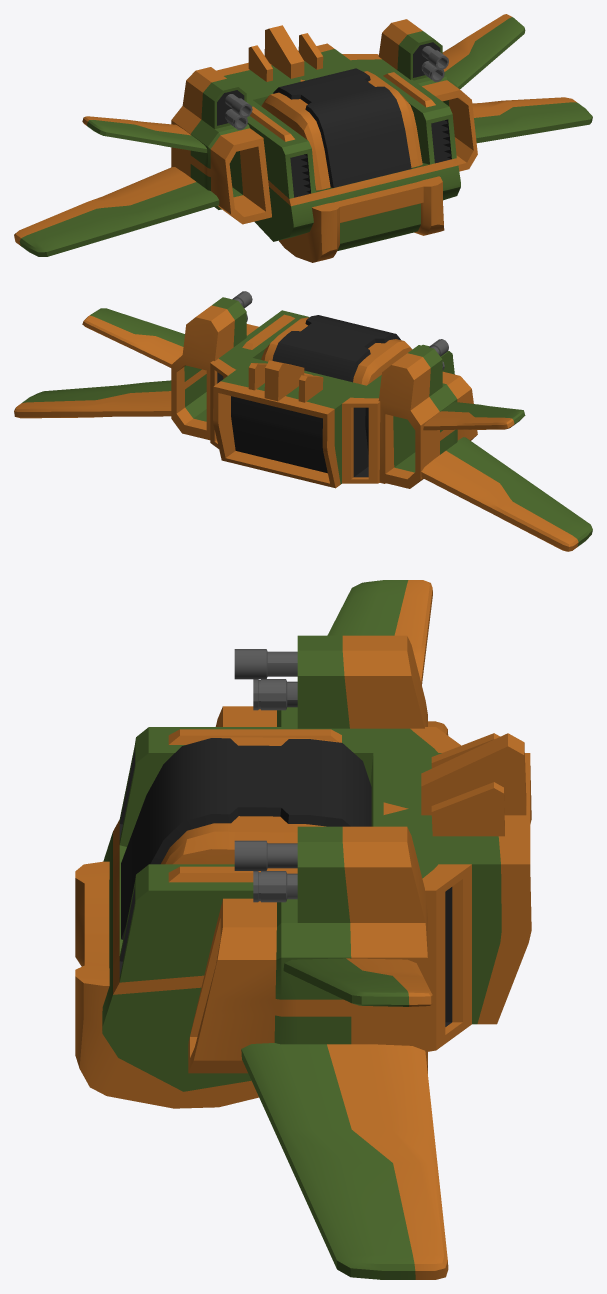
The model's file is spaceship2.glb.
3 views of the same model, one above another, from view 1: azimuth 30°, elevation 25°; view 2: azimuth 150°, elevation 25°; view 3: azimuth 270°, elevation 25° (orthographic). The views are drawn at different scales.
Parts seen in each view (by area): view 1: Spaceship_FinnTheFrog; view 2: Spaceship_FinnTheFrog; view 3: Spaceship_FinnTheFrog.
Boxes of the visible parts, box(x1,y1,x2,y2) form: Spaceship_FinnTheFrog: box(14, 14, 592, 262); Spaceship_FinnTheFrog: box(14, 291, 592, 551); Spaceship_FinnTheFrog: box(75, 580, 531, 1279).
Size of the model in its own units: 11.62 by 3.06 by 4.11.
1 material, 1 textured.
